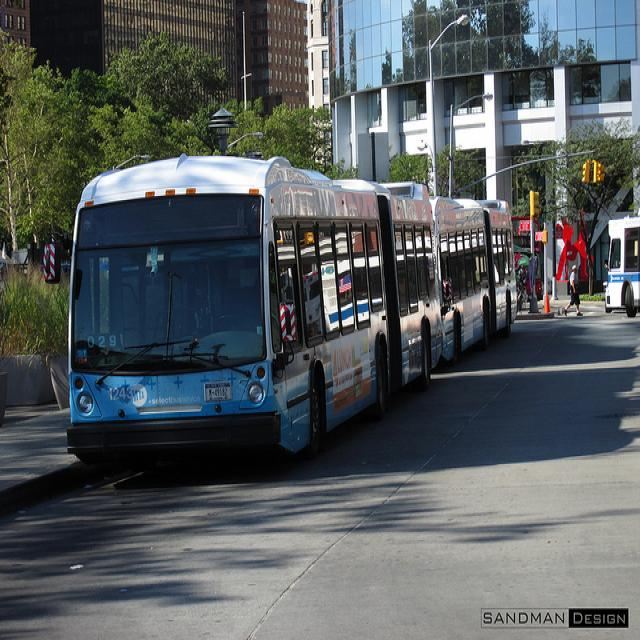Vehicle: (63, 154, 398, 476), (431, 195, 496, 365), (484, 200, 518, 335), (603, 216, 640, 322)
